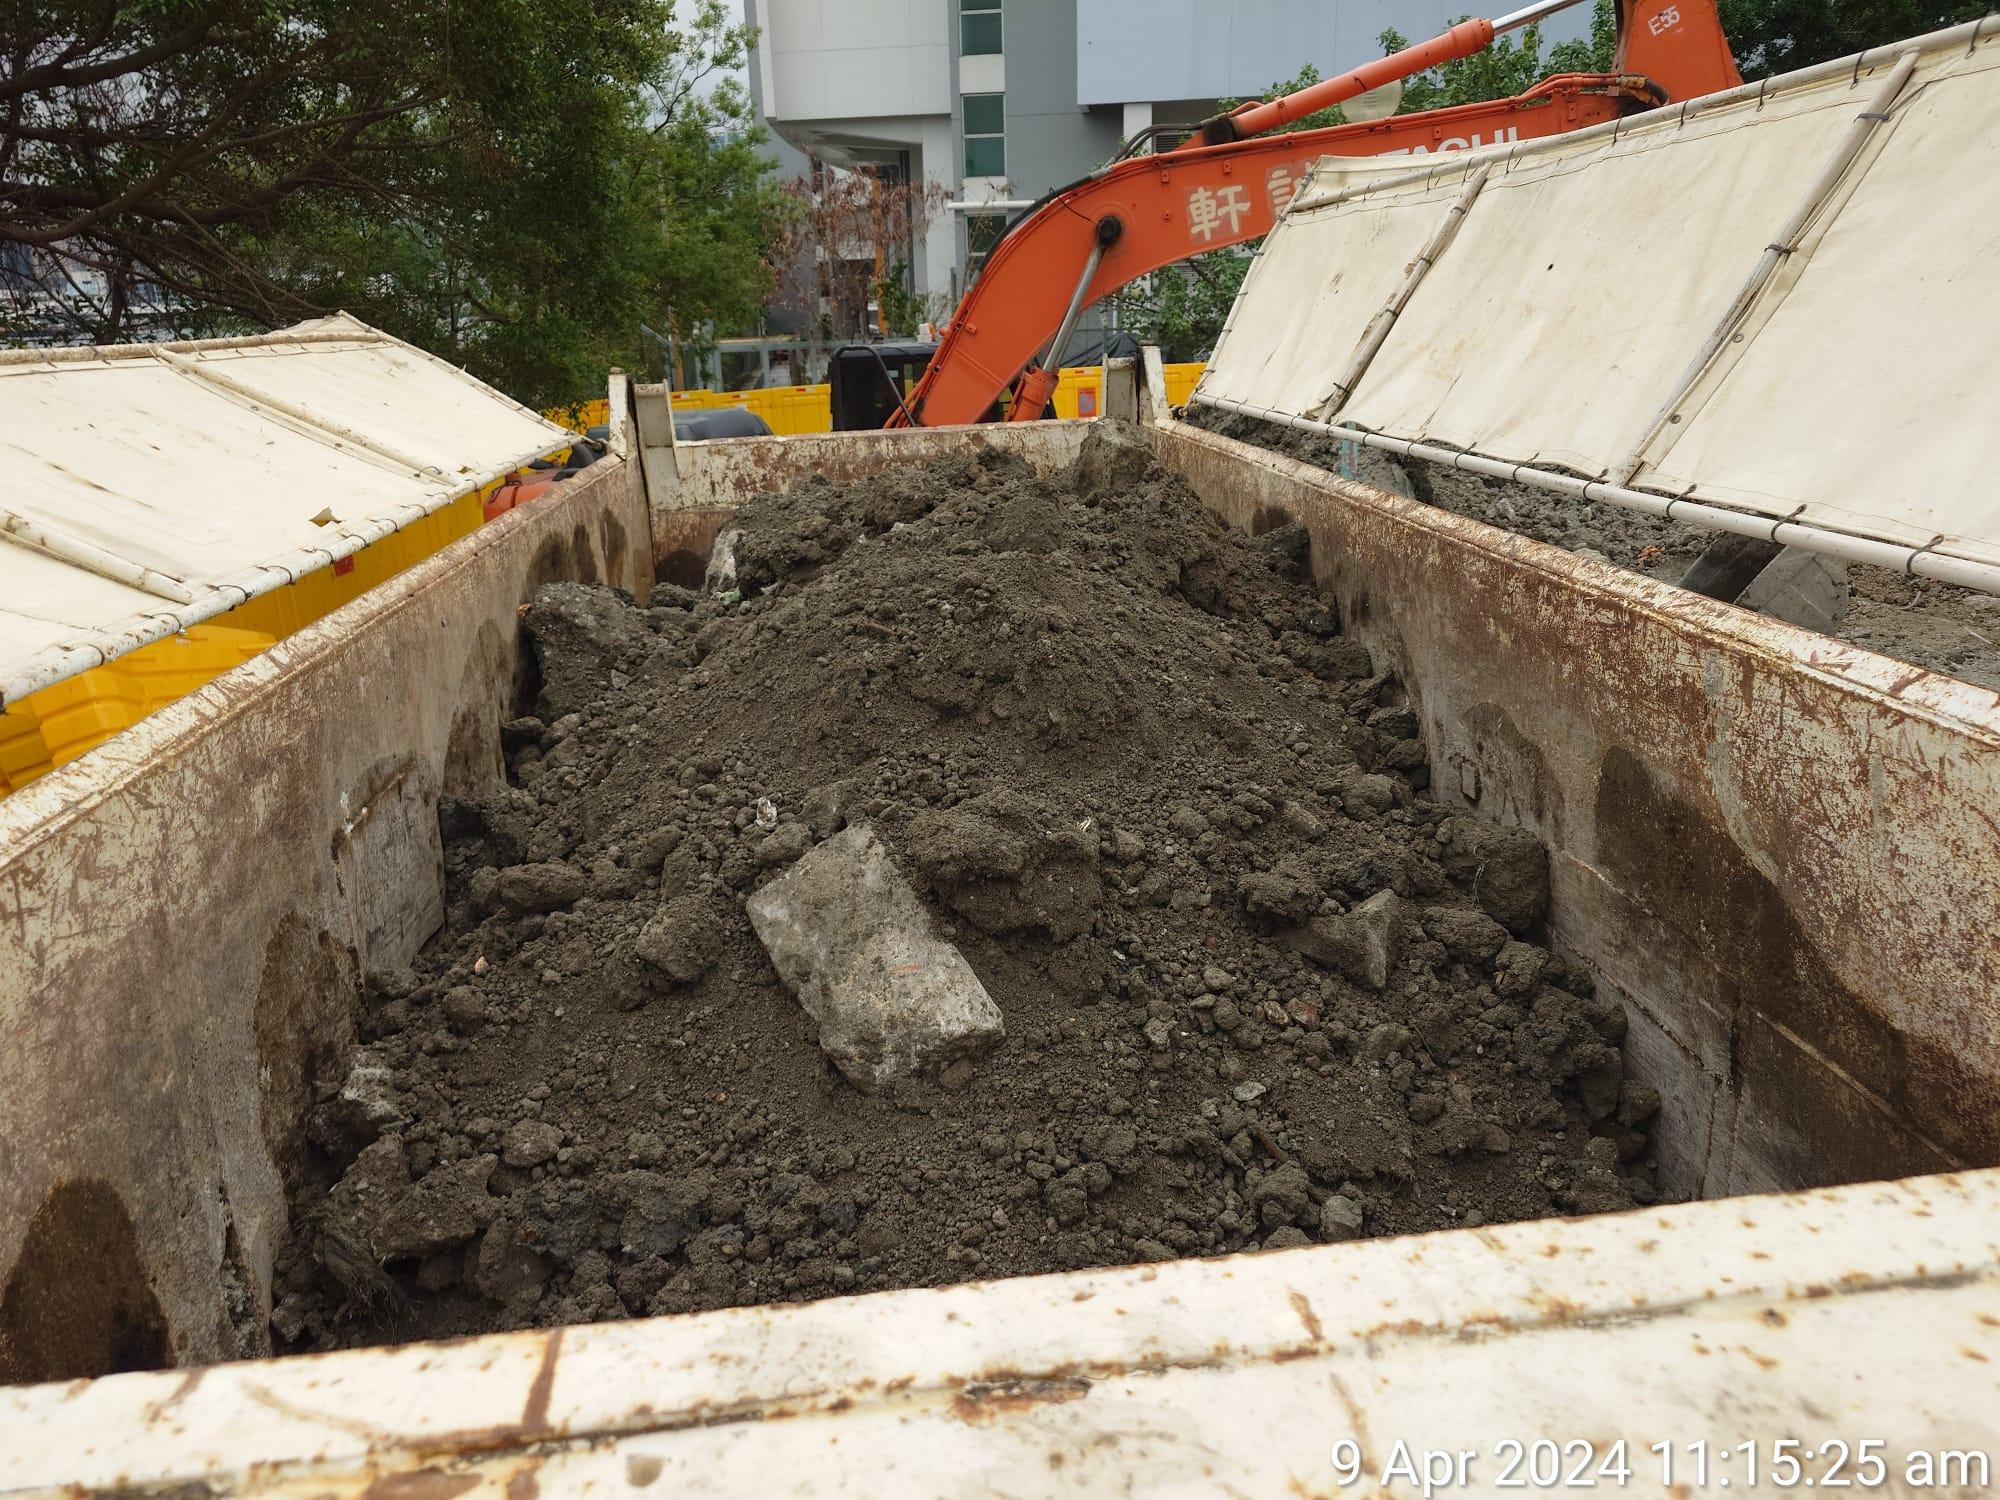wet: (380, 440, 1633, 1303)
